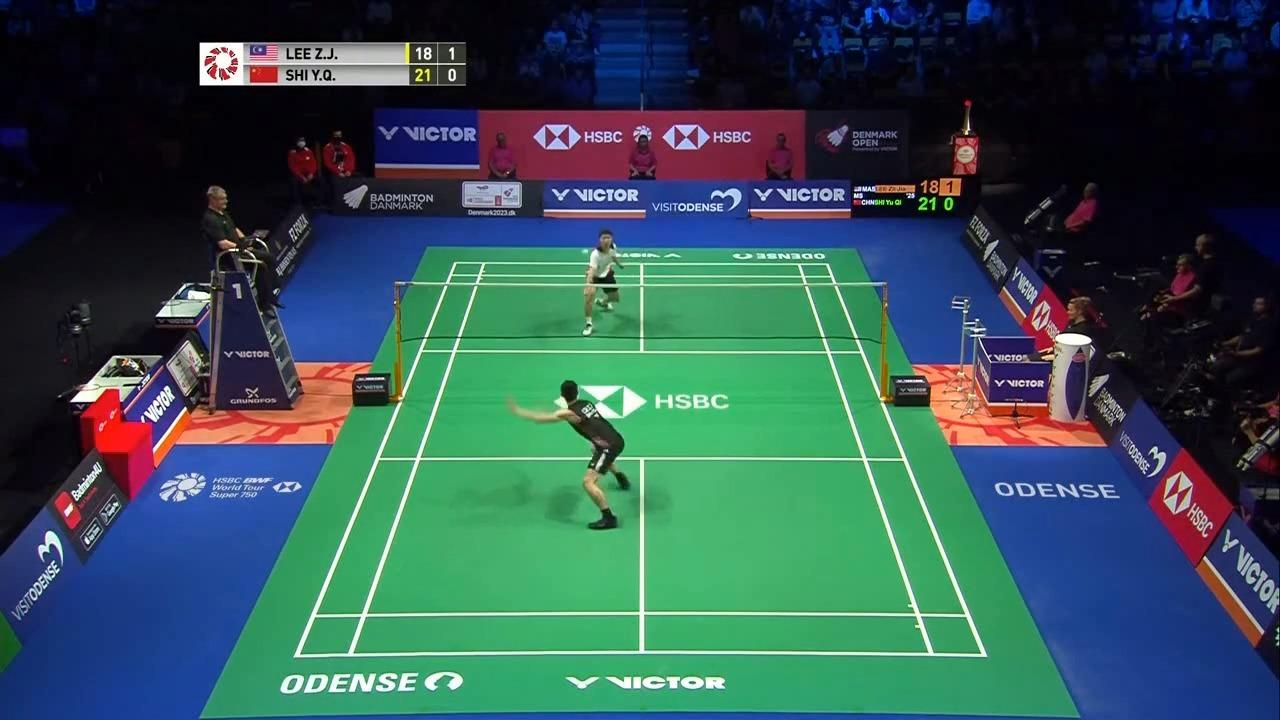shuttle: (582, 248, 589, 258)
